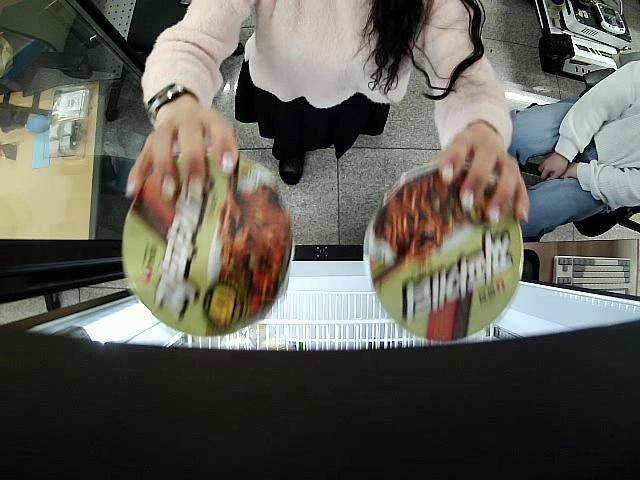03_chapagetti_L: (124, 150, 292, 338), (366, 166, 524, 340)
